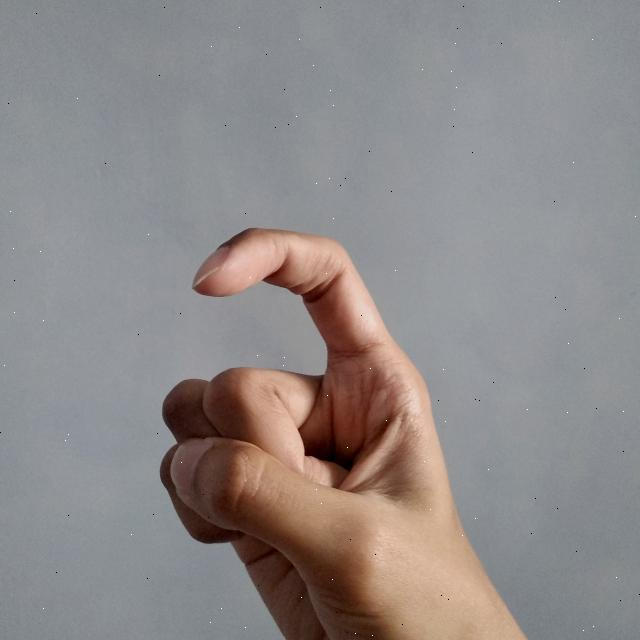X: (148, 217, 532, 640)
